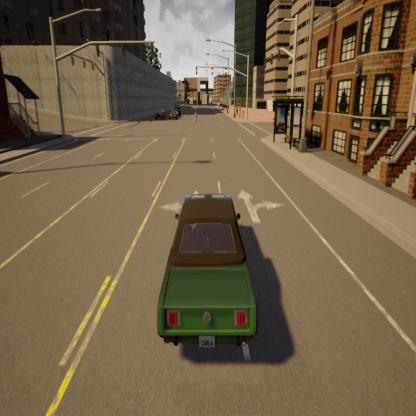Cars: (146, 181, 266, 364), (172, 101, 183, 117), (168, 107, 179, 121), (156, 107, 166, 122)
Pedestrian: (193, 107, 199, 124)
